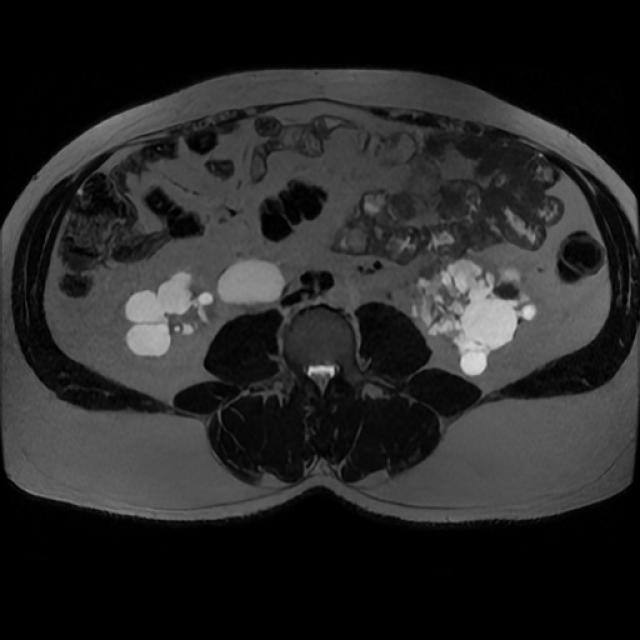sag: (124, 259, 285, 360)
sol: (408, 258, 542, 377)
